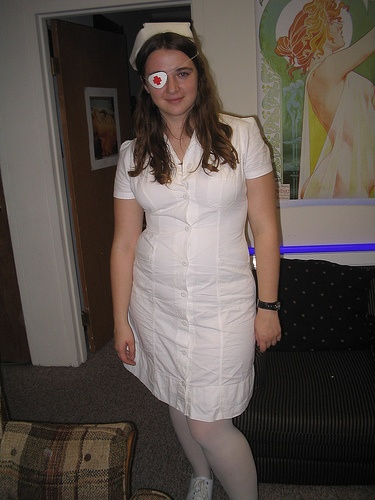head: (137, 33, 203, 115)
person: (106, 19, 283, 499)
